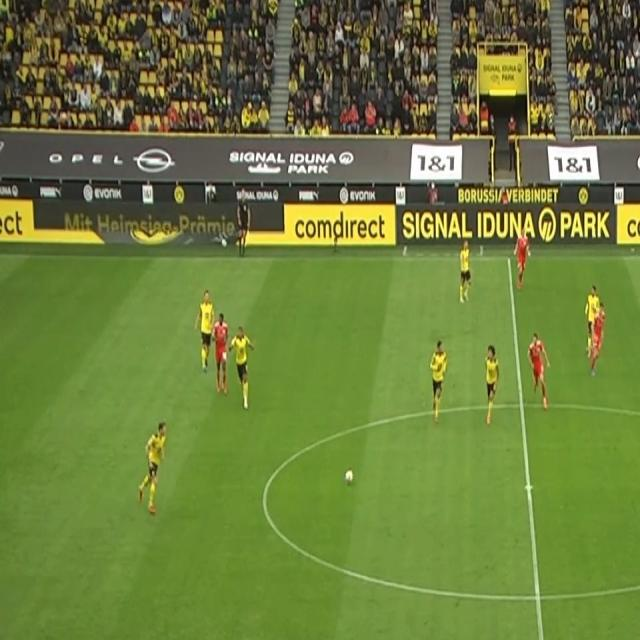ball: (344, 467, 354, 487)
